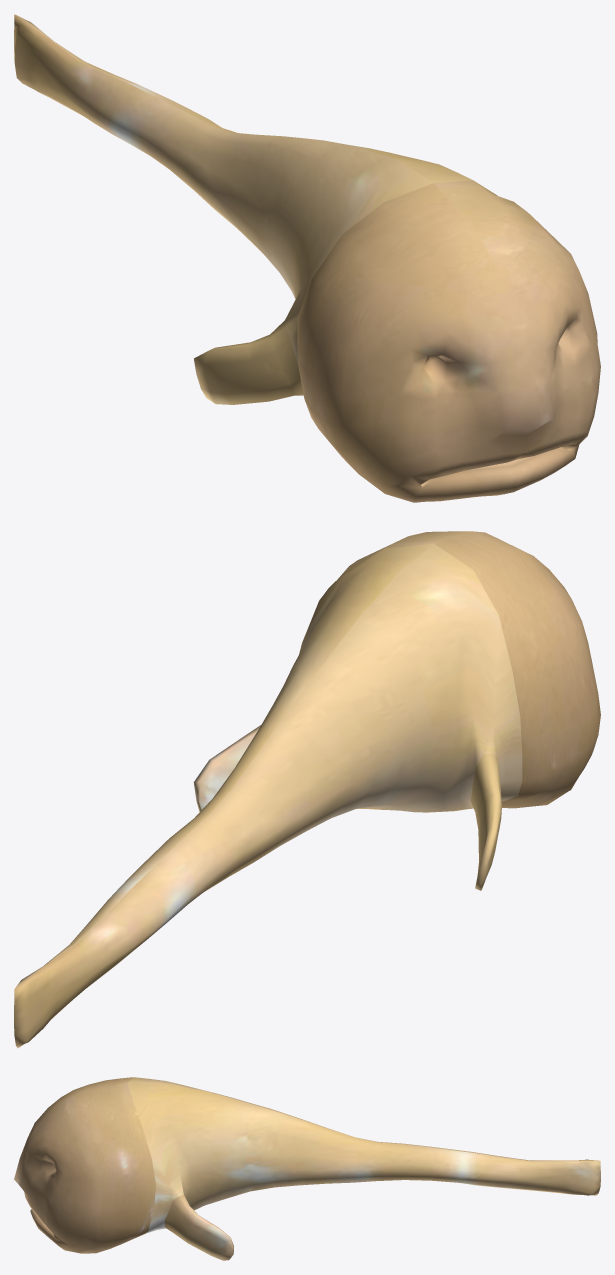
The model's file is PrivateBlobfish_Animation.fbx.
3 renders of one model, top to bottom at view 1: azimuth 30°, elevation 25°; view 2: azimuth 150°, elevation 25°; view 3: azimuth 270°, elevation 25°, orthographic. The views are drawn at different scales.
Parts seen in each view (by area): view 1: polySurface1; view 2: polySurface1; view 3: polySurface1.
Part boxes in pixels (x1,y1,x2,y2): polySurface1: [14, 14, 600, 502]; polySurface1: [14, 531, 600, 1048]; polySurface1: [14, 1077, 600, 1260].
Bounding box in the file's own units: 14.18 × 12.3 × 43.23.
